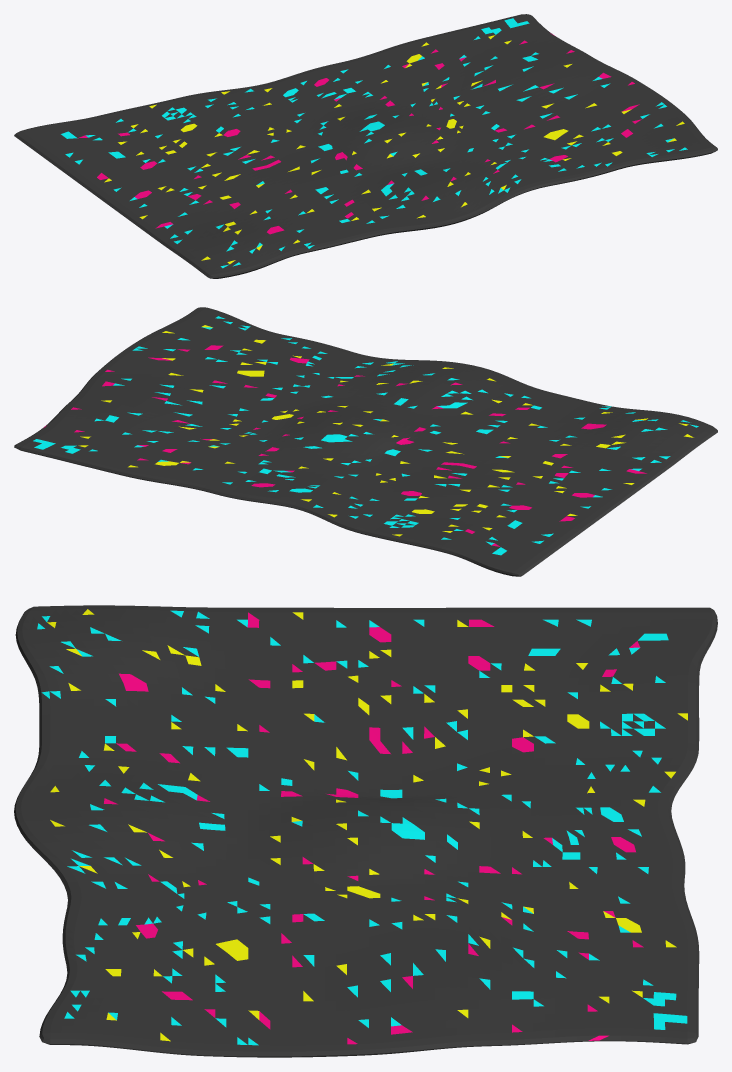
Rendered from blanket.glb.
3 views of the same model, one above another, from view 1: azimuth 30°, elevation 25°; view 2: azimuth 150°, elevation 25°; view 3: azimuth 270°, elevation 25° (orthographic). The views are drawn at different scales.
Visible parts, largest first — view 1: node-0; view 2: node-0; view 3: node-0.
Part boxes in pixels (x1,y1,x2,y2): node-0: [14, 14, 717, 278]; node-0: [14, 307, 717, 576]; node-0: [14, 605, 717, 1057].
Bounding box in the file's own units: 443305 × 8485 × 294555.
